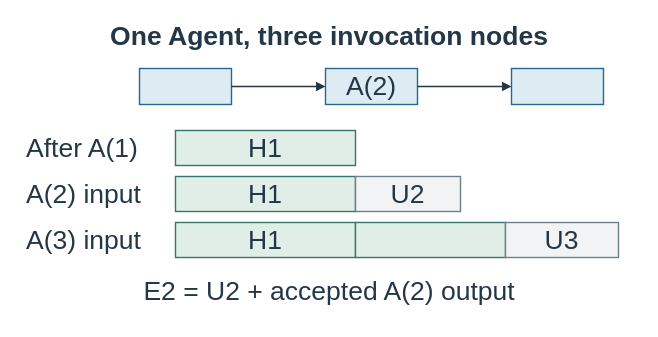
The diagram is 658 pixels wide and 337 high, and some of its shapes have lost their labels. Here are the shapes that lost their labels. From the top down, the box of each, then its label:
(138, 67, 232, 105): A(1)
(510, 67, 604, 105): A(3)
(354, 221, 506, 258): E2
